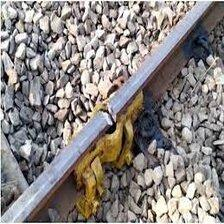railway-gap: (87, 92, 129, 136)
